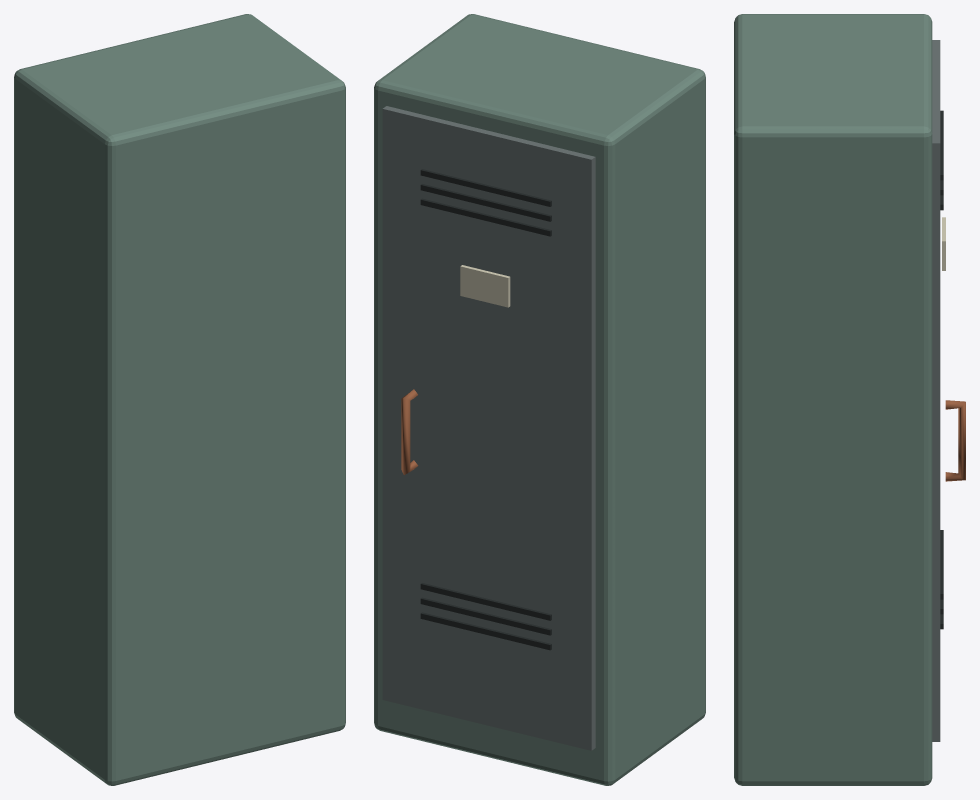
The model's file is locker.glb.
The picture shows the model from 3 angles, left to right: view 1: azimuth 30°, elevation 25°; view 2: azimuth 150°, elevation 25°; view 3: azimuth 270°, elevation 25°; orthographic projection.
Visible parts, largest first — view 1: locker; view 2: locker; view 3: locker.
Part boxes in pixels (left/top/right/bottom): locker: left=14, top=14, right=345, bottom=785; locker: left=374, top=14, right=705, bottom=785; locker: left=734, top=14, right=965, bottom=785.
Bounding box in the file's own units: 0.85 × 2.2 × 0.7013.
